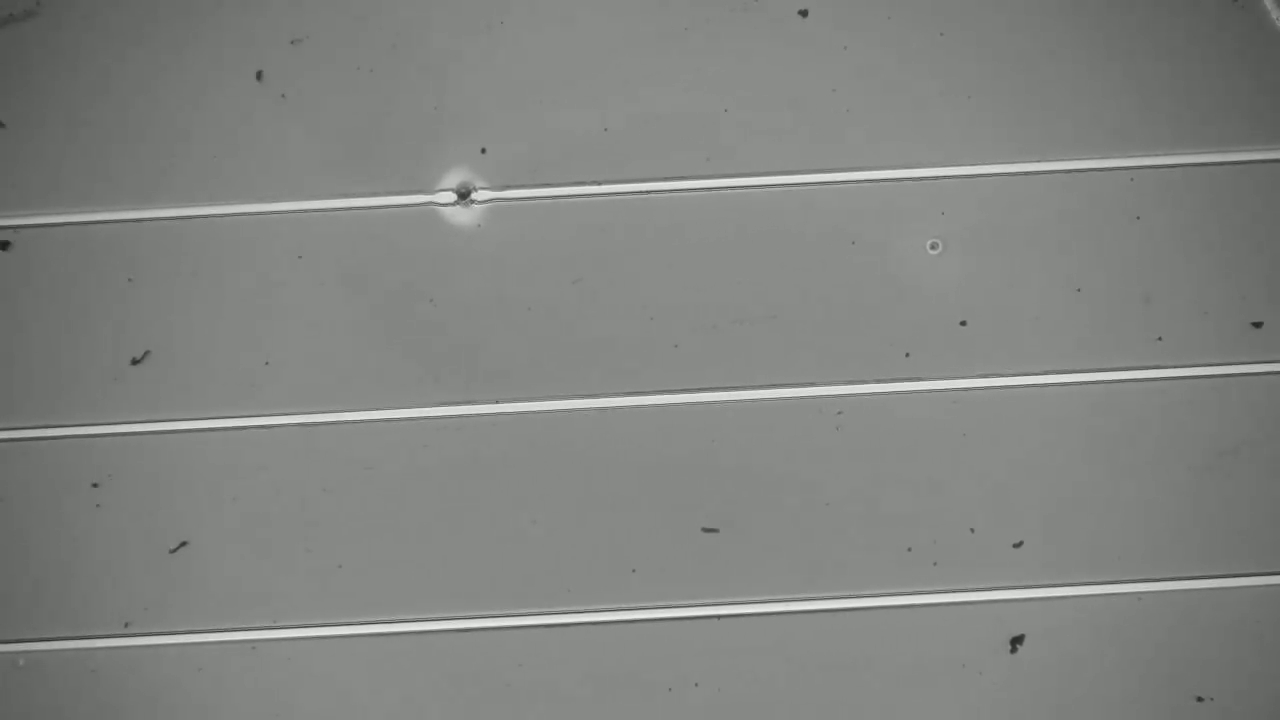stains_enbedded: (439, 168, 500, 225)
